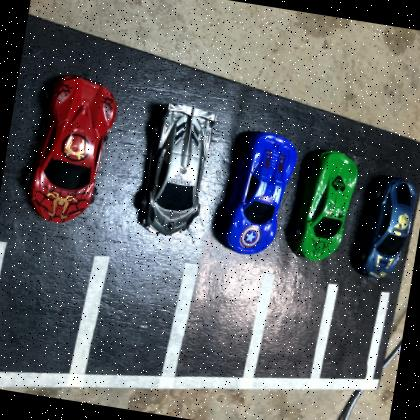Car: (28, 70, 123, 229), (135, 100, 220, 241), (223, 128, 301, 262), (293, 146, 363, 268), (360, 173, 420, 284)
